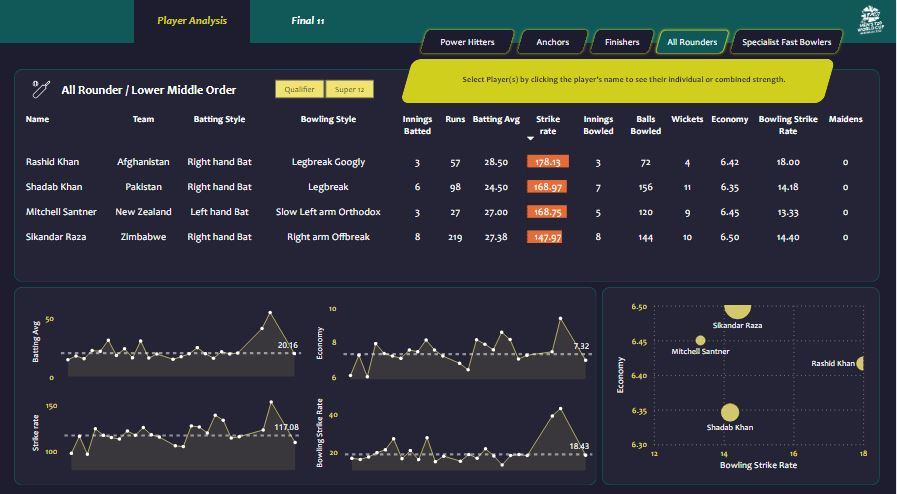

Layout of this report page (visuals, bound fields, positions):
{"tool":"powerbi","page":{"name":"New All Rounders / Lower Middle Order","canvas":[1280,720],"ordinal":3},"visuals":[{"type":"shape","box":[0,66,1280,654],"z":0},{"type":"card","fields":{"Values":["Key_Measures.Strike rate"]},"box":[867,89,93,60],"z":0,"group":"g2"},{"type":"shape","box":[83.7,116.3,260,31.2],"z":0,"group":"g1"},{"type":"card","fields":{"Values":["Key_Measures.Bat Avg"]},"box":[768,89,92,60],"z":1000,"group":"g2"},{"type":"image","box":[37.5,113.8,44,36],"z":1000,"group":"g1"},{"type":"shape","box":[20,414.4,832.2,283.3],"z":1000},{"type":"actionButton","box":[734,42.6,111,42],"z":2000},{"type":"card","fields":{"Values":["Key_Measures.Bowling Strike Rate"]},"box":[1073,89,100,60],"z":2000,"group":"g2"},{"type":"actionButton","box":[596,42.6,144,42],"z":3000},{"type":"card","fields":{"Values":["Key_Measures.Economy"]},"box":[966,89,101,60],"z":3000,"group":"g2"},{"type":"actionButton","box":[838,42.6,101,42],"z":4000},{"type":"actionButton","box":[932,42.6,115,42],"z":5000},{"type":"actionButton","box":[1039,42.6,171,42],"z":6000},{"type":"image","box":[1220,3,48,59],"z":7000},{"type":"shape","box":[20,102.2,1236.7,304.4],"z":9000},{"type":"group","id":"g1","title":"Group 2","box":[37.5,113.8,306.2,35],"z":10000},{"type":"slicer","fields":{"Values":["dim_match_summary.stage"]},"box":[366.7,111.1,191.1,38.9],"z":11000},{"type":"tableEx","fields":{"Values":["dim_player.name","Min(dim_player.team)","Min(dim_player.Batting Style)","Min(dim_player.Bowling Style)","Key_Measures.Total Innings Batted","Key_Measures.Total Runs","Key_Measures.Bat Avg","Key_Measures.Strike rate","Key_Measures.Total Innings Bowled","Key_Measures.Balls Bowled","Key_Measures.wickets","Key_Measures.Economy"]},"box":[26,151,1231,255],"z":12000},{"type":"shape","box":[572,88,622,63],"z":13000},{"type":"shape","box":[591,103,173,34],"z":14000},{"type":"group","id":"g2","title":"Combined Perfoamce Metrices","box":[768,89,405,60],"z":15000},{"type":"scatterChart","fields":{"Category":["dim_player.name"],"X":["Key_Measures.Bowling Strike Rate"],"Y":["Key_Measures.Economy"],"Size":["Key_Measures.Total Runs"]},"box":[874.4,427,370,254],"z":16000},{"type":"actionButton","title":"Button Player Ana selected","box":[191,0,166,66],"z":17000},{"type":"actionButton","title":"Button Player Ana selected","box":[357,0,166,66],"z":18000},{"type":"shape","box":[612,100,560,36],"z":19000},{"type":"shape","box":[859.5,414.3,396.7,283.1],"z":20000},{"type":"areaChart","fields":{"Category":["dim_match_summary.Match_Date.Variation.Date Hierarchy.Day"],"Y":["Key_Measures.Economy"]},"box":[446,430,406,126],"z":21000},{"type":"areaChart","fields":{"Category":["dim_match_summary.Match_Date.Variation.Date Hierarchy.Day"],"Y":["Key_Measures.Bowling Strike Rate"]},"box":[446,556,406,126],"z":22000},{"type":"areaChart","fields":{"Category":["dim_match_summary.Match_Date.Variation.Date Hierarchy.Day"],"Y":["Key_Measures.Bat Avg"]},"box":[40,428.9,395.6,126.7],"z":23000},{"type":"areaChart","fields":{"Category":["dim_match_summary.Match_Date.Variation.Date Hierarchy.Day"],"Y":["Key_Measures.Strike rate"]},"box":[40,555.6,396.7,125.6],"z":24000}]}

Visuals, with their boxes in screenshot pixels (x1, y1, x2, y2), scaled from the page's 1280x720 canvas onto the 897x494 screenshot:
shape: [0,45,896,493]
card - Key_Measures.Strike rate: [608,61,673,102]
shape: [59,80,241,101]
card - Key_Measures.Bat Avg: [538,61,603,102]
image: [26,78,57,103]
shape: [14,284,597,479]
actionButton: [514,29,592,58]
card - Key_Measures.Bowling Strike Rate: [752,61,822,102]
actionButton: [418,29,519,58]
card - Key_Measures.Economy: [677,61,748,102]
actionButton: [587,29,658,58]
actionButton: [653,29,734,58]
actionButton: [728,29,848,58]
image: [855,2,889,43]
shape: [14,70,881,279]
"Group 2" group: [26,78,241,102]
slicer - dim_match_summary.stage: [257,76,391,103]
tableEx - dim_player.name x Min(dim_player.team): [18,104,881,279]
shape: [401,60,837,104]
shape: [414,71,535,94]
"Combined Perfoamce Metrices" group: [538,61,822,102]
scatterChart - dim_player.name x Key_Measures.Bowling Strike Rate: [613,293,872,467]
"Button Player Ana selected" actionButton: [134,0,250,45]
"Button Player Ana selected" actionButton: [250,0,367,45]
shape: [429,69,821,93]
shape: [602,284,880,478]
areaChart - dim_match_summary.Match_Date.Variation.Date Hierarchy.Day x Key_Measures.Economy: [313,295,597,381]
areaChart - dim_match_summary.Match_Date.Variation.Date Hierarchy.Day x Key_Measures.Bowling Strike Rate: [313,381,597,468]
areaChart - dim_match_summary.Match_Date.Variation.Date Hierarchy.Day x Key_Measures.Bat Avg: [28,294,305,381]
areaChart - dim_match_summary.Match_Date.Variation.Date Hierarchy.Day x Key_Measures.Strike rate: [28,381,306,467]
